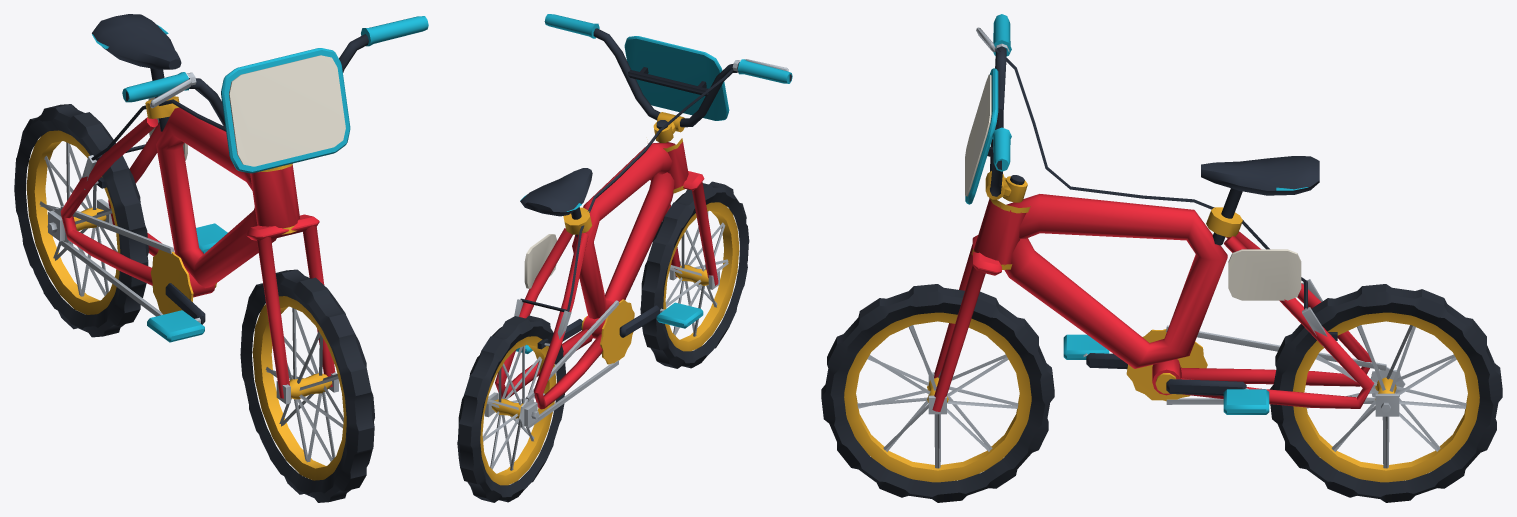
Rendered from bmx.glb.
3 renders of one model, left to right at view 1: azimuth 30°, elevation 25°; view 2: azimuth 150°, elevation 25°; view 3: azimuth 270°, elevation 25°, orthographic. The views are drawn at different scales.
Visible parts, largest first — view 1: BMX Frame paint, Front wheel Tyre rubber, BMX Number plate, Rear wheel Tyre rubber, BMX Graphite, Front wheel Anodized gold, BMX Accent, Rear wheel Anodized gold, BMX Steel, Front wheel Steel, Rear wheel Steel, Crank set Accent (+3 smaller); view 2: BMX Frame paint, Rear wheel Tyre rubber, Front wheel Tyre rubber, BMX Accent, BMX Graphite, Front wheel Anodized gold, Rear wheel Anodized gold, BMX Steel, Rear wheel Steel, Front wheel Steel, Crank set Anodized gold, BMX Anodized gold (+3 smaller); view 3: BMX Frame paint, Front wheel Tyre rubber, Rear wheel Tyre rubber, Front wheel Anodized gold, BMX Graphite, Rear wheel Anodized gold, BMX Number plate, Rear wheel Steel, Front wheel Steel, BMX Steel, BMX Accent, Crank set Accent (+3 smaller).
Part boxes in pixels (x1,y1,x2,y2): BMX Frame paint: [60, 107, 335, 398]; Front wheel Tyre rubber: [240, 269, 374, 502]; BMX Number plate: [148, 55, 345, 166]; Rear wheel Tyre rubber: [14, 104, 148, 337]; BMX Graphite: [91, 14, 368, 188]; Front wheel Anodized gold: [252, 296, 346, 480]; BMX Accent: [92, 16, 428, 173]; Rear wheel Anodized gold: [26, 130, 120, 314]; BMX Steel: [47, 72, 338, 404]; Front wheel Steel: [265, 308, 343, 462]; Rear wheel Steel: [39, 142, 117, 296]; Crank set Accent: [147, 223, 227, 342]; BMX Frame paint: [495, 142, 718, 409]; Rear wheel Tyre rubber: [457, 315, 565, 502]; Front wheel Tyre rubber: [640, 181, 749, 368]; BMX Accent: [520, 14, 792, 211]; BMX Graphite: [520, 28, 791, 349]; Front wheel Anodized gold: [663, 202, 739, 351]; Rear wheel Anodized gold: [480, 336, 556, 485]; BMX Steel: [484, 59, 788, 428]; Rear wheel Steel: [482, 345, 544, 470]; Front wheel Steel: [665, 211, 728, 336]; Crank set Anodized gold: [600, 299, 634, 364]; BMX Anodized gold: [563, 112, 684, 330]; BMX Frame paint: [932, 194, 1374, 411]; Front wheel Tyre rubber: [821, 284, 1054, 502]; Rear wheel Tyre rubber: [1269, 284, 1502, 502]; Front wheel Anodized gold: [844, 312, 1031, 482]; BMX Graphite: [987, 46, 1337, 340]; Rear wheel Anodized gold: [1292, 312, 1479, 482]; BMX Number plate: [965, 74, 1301, 300]; Rear wheel Steel: [1306, 325, 1466, 468]; Front wheel Steel: [857, 325, 1018, 468]; BMX Steel: [928, 27, 1399, 416]; BMX Accent: [965, 14, 1308, 204]; Crank set Accent: [1063, 334, 1269, 414].
Bounding box in the file's own units: 0.7481 × 1 × 1.49.
